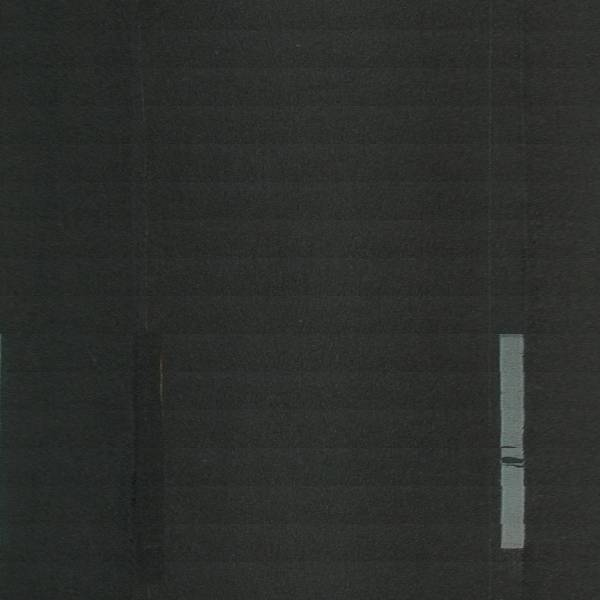road_damage: (126, 66, 158, 329), (484, 14, 498, 365)
